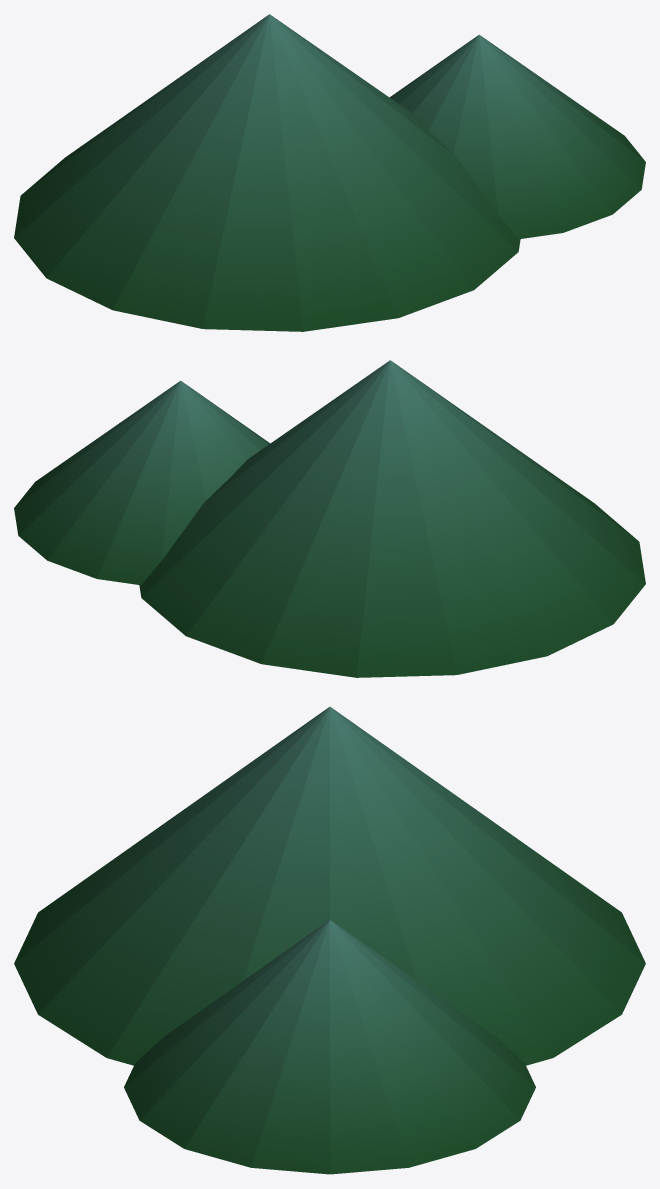
The model's file is object9_mountainA.fbx.
3 renders of one model, top to bottom at view 1: azimuth 30°, elevation 25°; view 2: azimuth 150°, elevation 25°; view 3: azimuth 270°, elevation 25°, orthographic. The views are drawn at different scales.
Parts seen in each view (by area): view 1: mountain1, mountain2; view 2: mountain1, mountain2; view 3: mountain1, mountain2.
Boxes of the visible parts, bbox=[...] form: mountain1: bbox=[14, 14, 520, 331]; mountain2: bbox=[390, 34, 645, 239]; mountain1: bbox=[139, 360, 645, 677]; mountain2: bbox=[14, 380, 269, 585]; mountain1: bbox=[14, 707, 645, 1065]; mountain2: bbox=[124, 920, 535, 1174].
Bounding box in the file's own units: 1571 × 544 × 1213.
